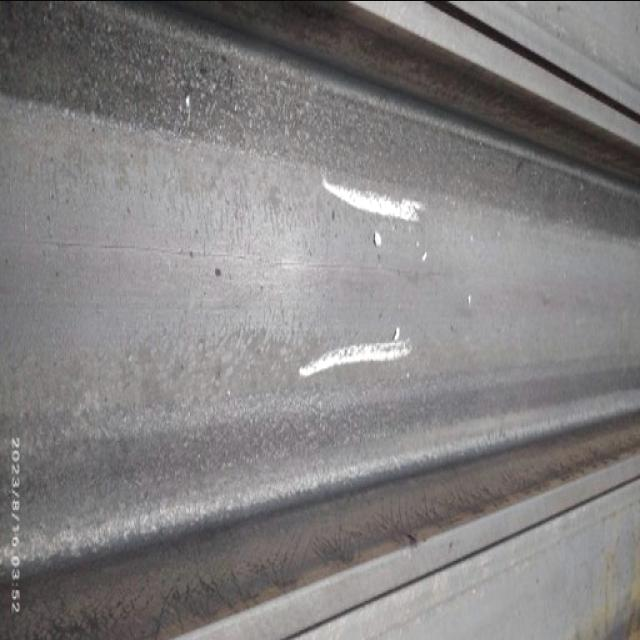defect: (282, 470, 640, 639), (427, 0, 640, 122)
